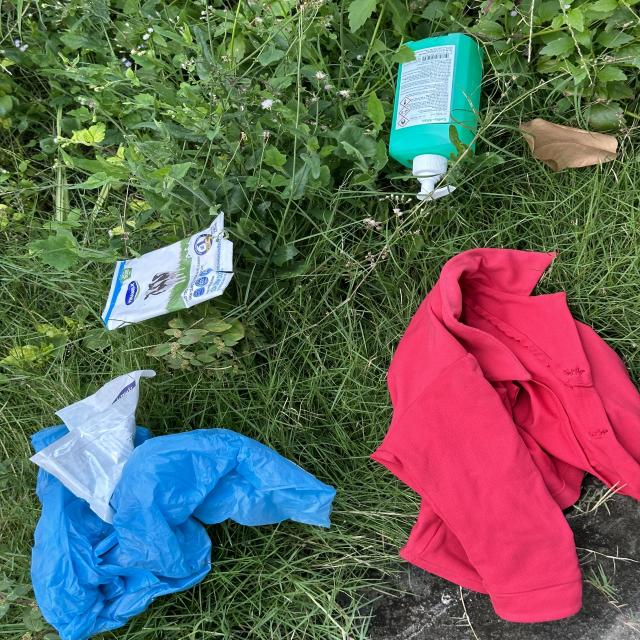bag: (28, 425, 338, 640)
bottle: (390, 32, 482, 201)
clothes: (369, 246, 640, 623)
packet: (26, 369, 158, 526), (100, 211, 234, 331)
